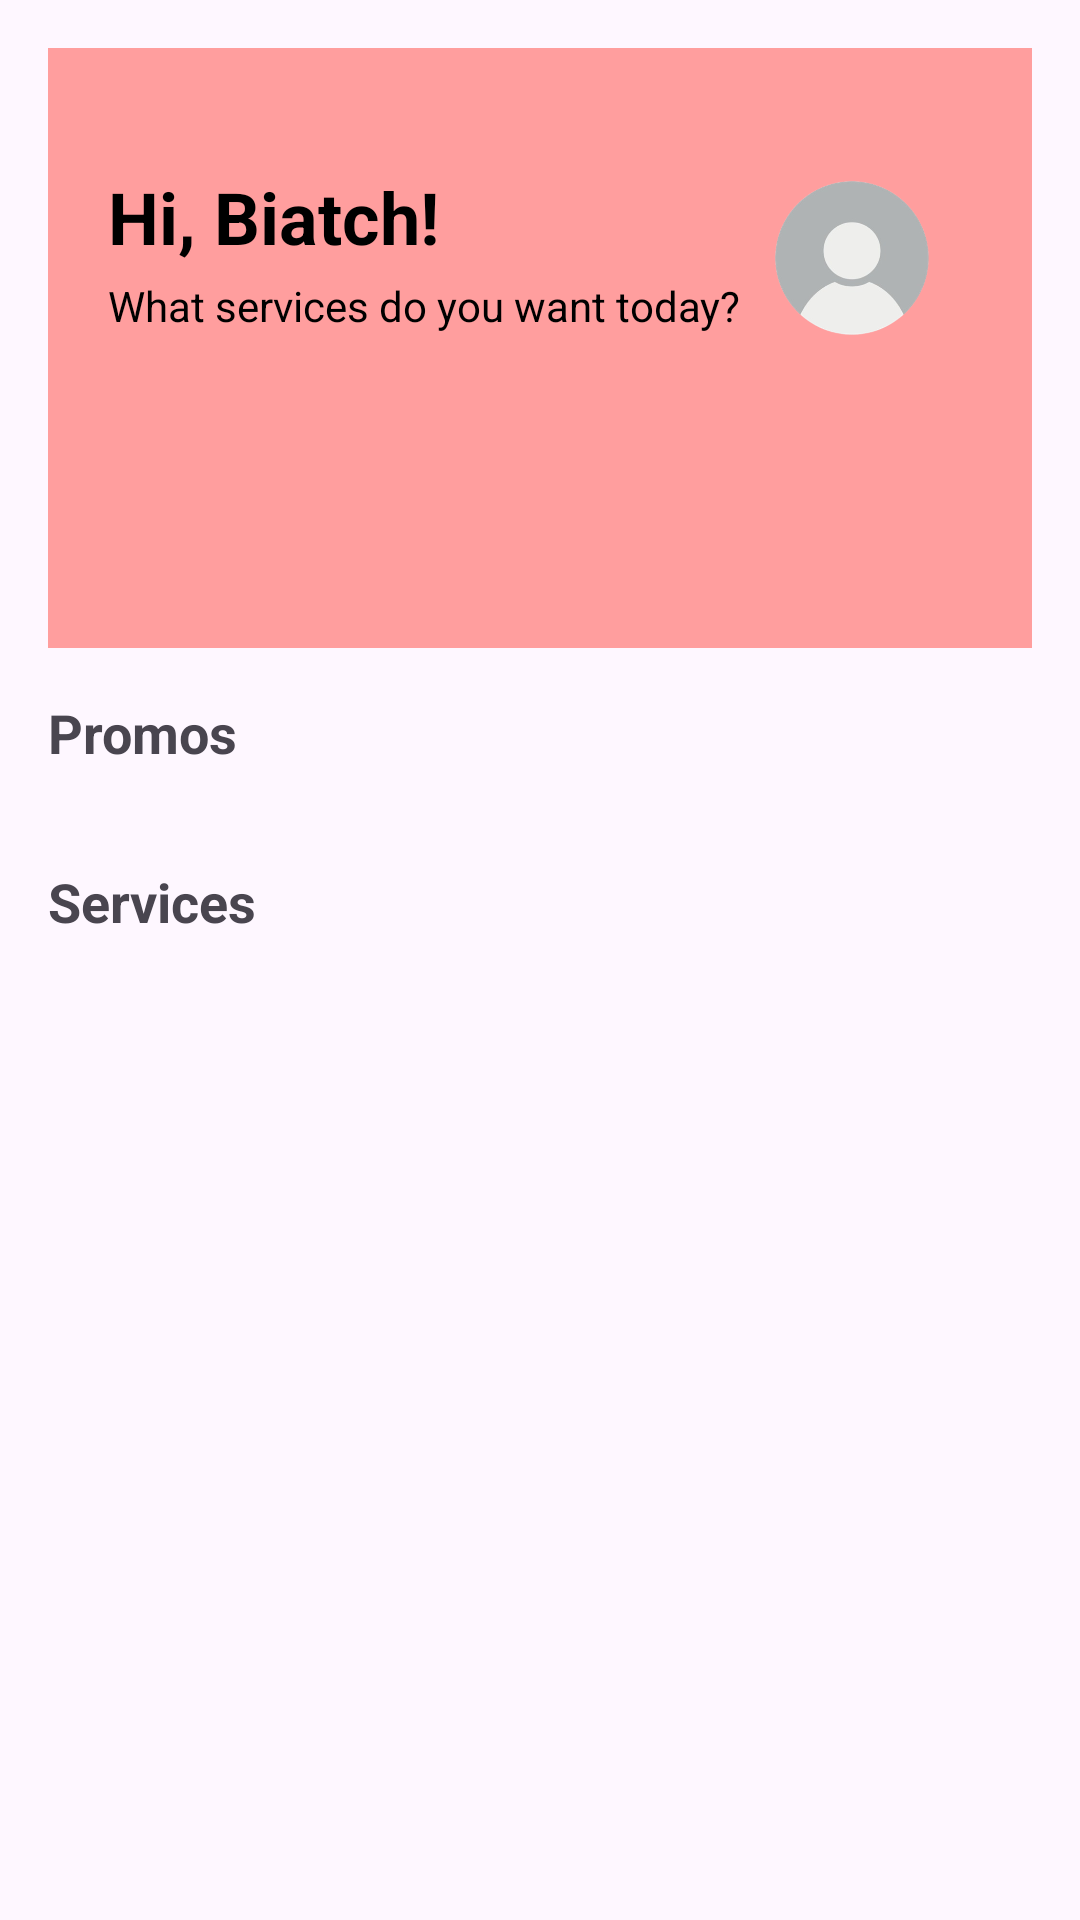

Where to tap for icons on this 1080px×1920px app screen, as (x,y):
user profile: (852,258)
